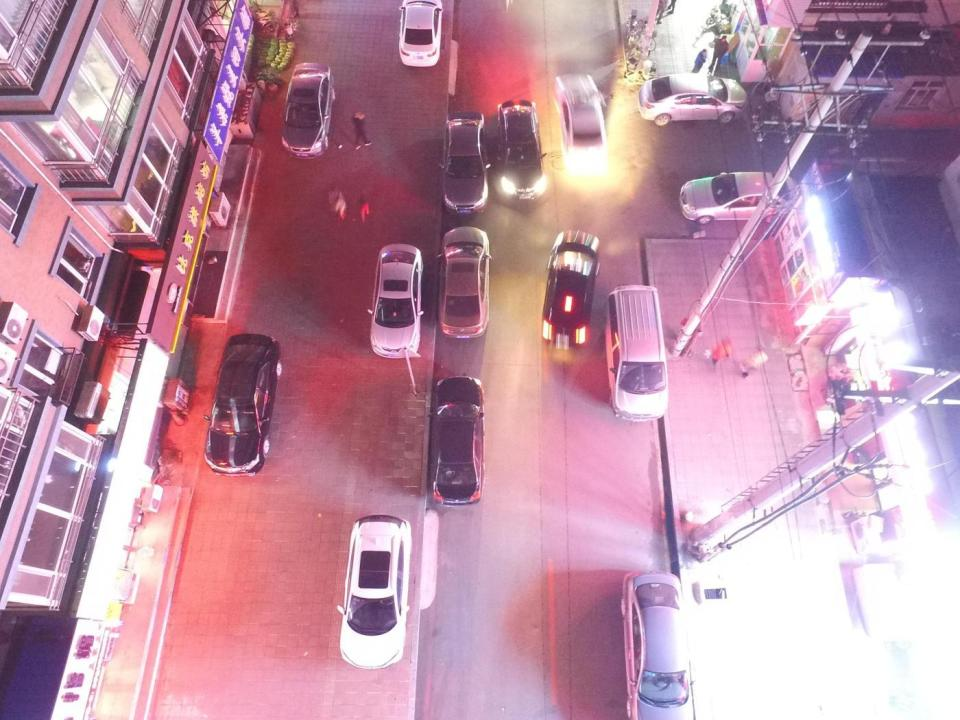car: (339, 514, 413, 669), (203, 332, 282, 477), (620, 569, 695, 720), (539, 229, 600, 352), (430, 375, 485, 508), (678, 170, 800, 226), (369, 242, 424, 360), (636, 72, 748, 128), (436, 226, 490, 340), (280, 61, 336, 159), (496, 98, 544, 209), (440, 110, 489, 216), (553, 72, 608, 156), (397, 0, 443, 67)
van: (603, 284, 670, 422)
